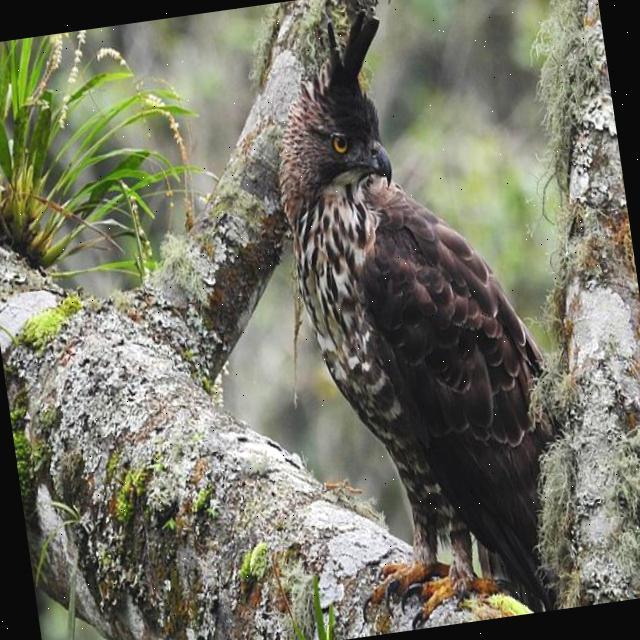Elang Jawa: (233, 0, 621, 640)
